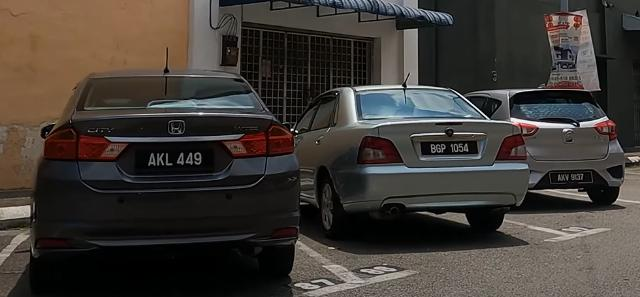License_Plate: (140, 149, 211, 171), (419, 140, 479, 158), (552, 173, 591, 184)
car: (30, 56, 302, 285), (291, 77, 531, 238), (462, 85, 627, 207)
